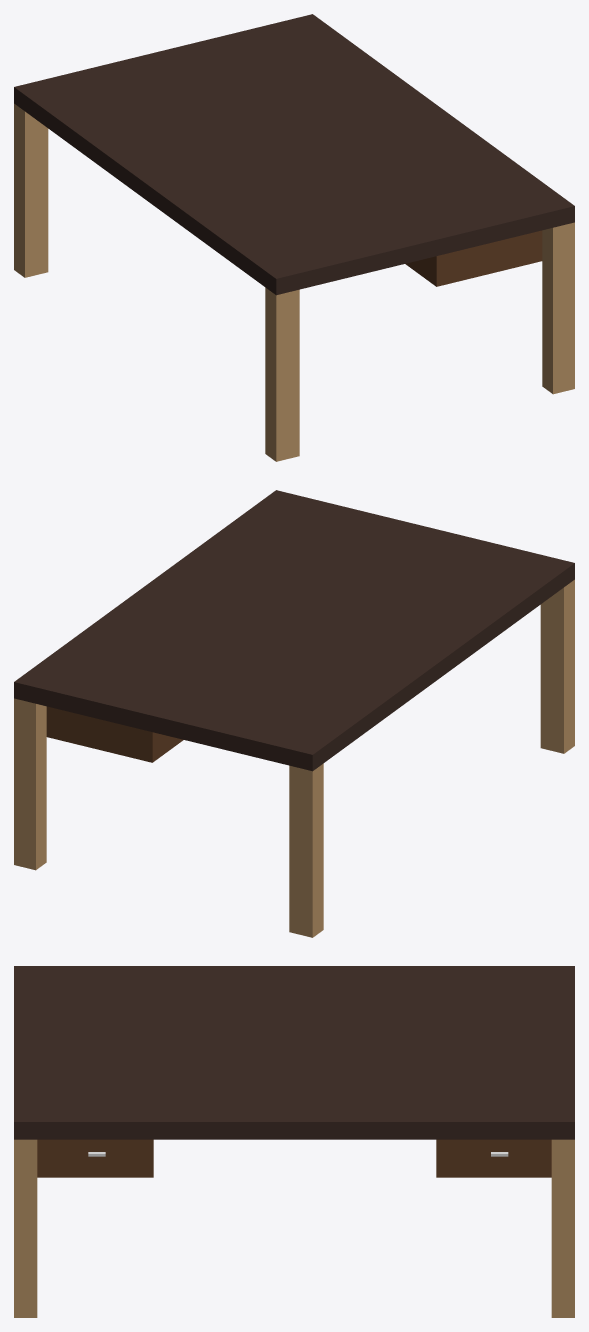
The model's file is Table-col.glb.
3 renders of one model, top to bottom at view 1: azimuth 30°, elevation 25°; view 2: azimuth 150°, elevation 25°; view 3: azimuth 270°, elevation 25°, orthographic. The views are drawn at different scales.
Parts seen in each view (by area): view 1: Cube-col; view 2: Cube-col; view 3: Cube-col.
Boxes of the visible parts, x1,y1,x2,y2 form: Cube-col: (14,14,574,461); Cube-col: (14,490,574,937); Cube-col: (14,966,574,1317).
Bounding box in the file's own units: 4.65 × 2.72 × 7.06.
